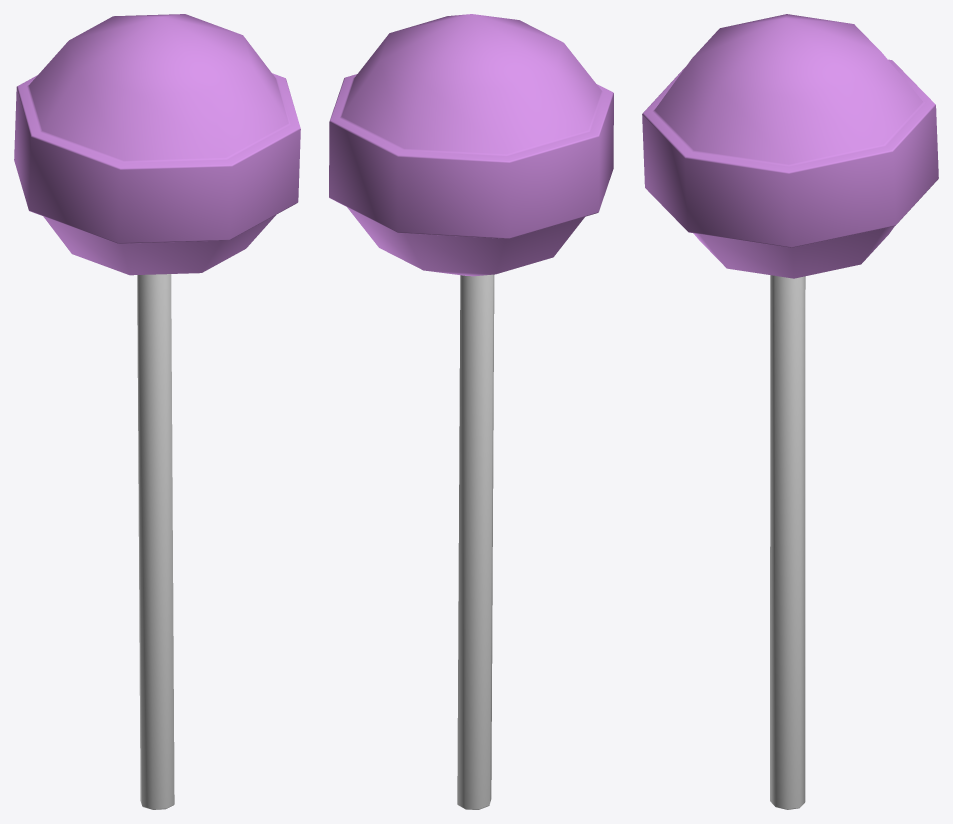
The model's file is lollipop_low.fbx.
3 renders of one model, left to right at view 1: azimuth 30°, elevation 25°; view 2: azimuth 150°, elevation 25°; view 3: azimuth 270°, elevation 25°, orthographic.
Parts seen in each view (by area): view 1: lollipop; view 2: lollipop; view 3: lollipop.
Boxes of the visible parts, <box> form: lollipop: <box>14,14,300,809</box>; lollipop: <box>329,14,613,809</box>; lollipop: <box>642,14,938,809</box>.
Bounding box in the file's own units: 106 × 312 × 107.
